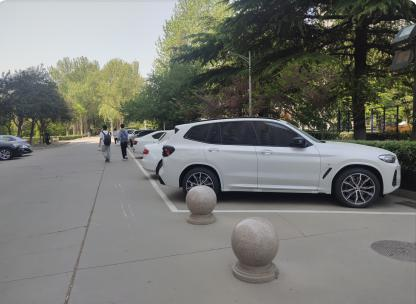car1: (169, 125, 398, 184)
car2: (2, 135, 36, 157)
car3: (140, 129, 166, 169)
person1: (98, 125, 112, 161)
person2: (117, 123, 130, 160)
